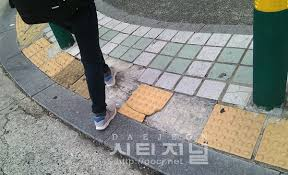block(point type): (208, 106, 285, 162), (123, 84, 175, 120)
